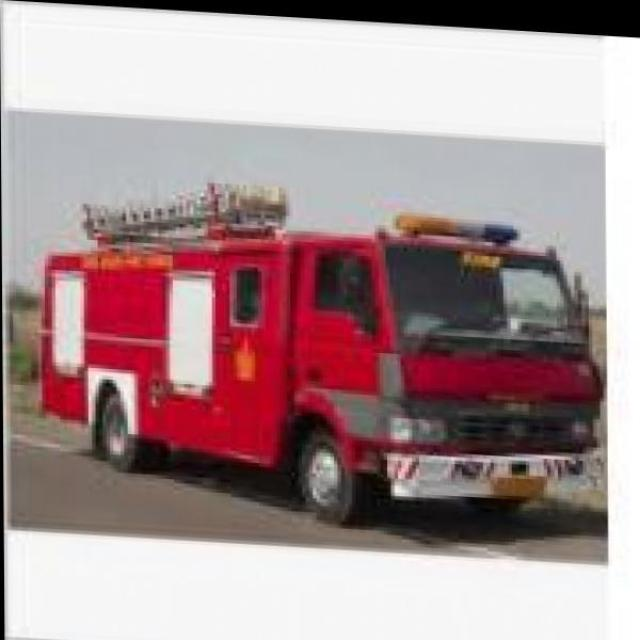emergency: (34, 178, 606, 526)
